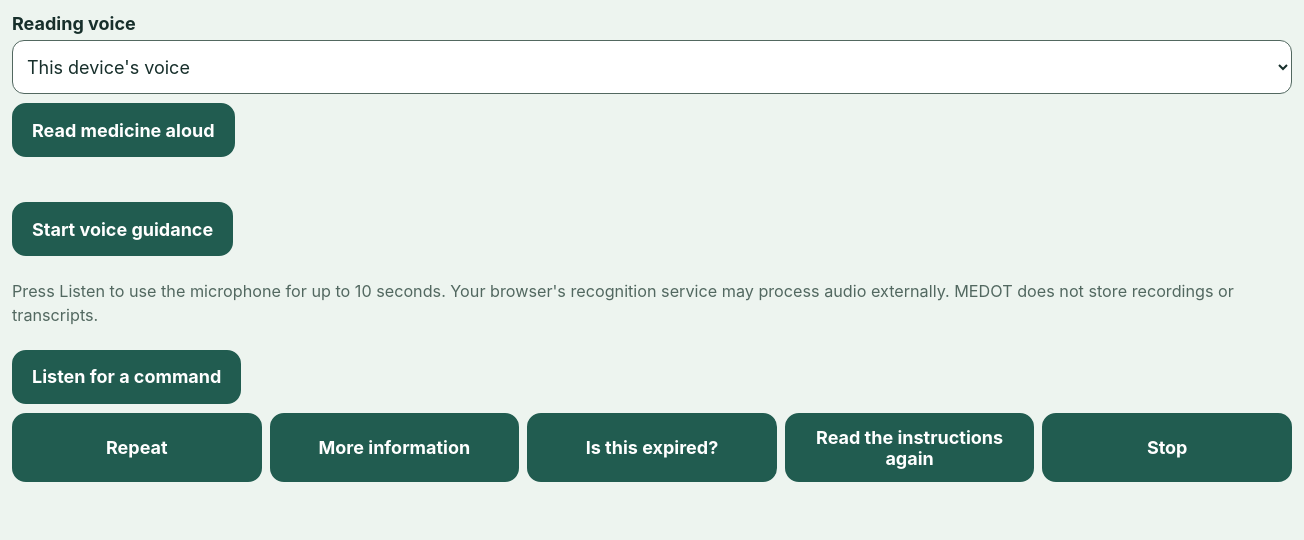
Test: never speaks stale text after unknown resolution
Click the button "Read medicine aloud". click: (123, 130)
box: [12,103,234,157]
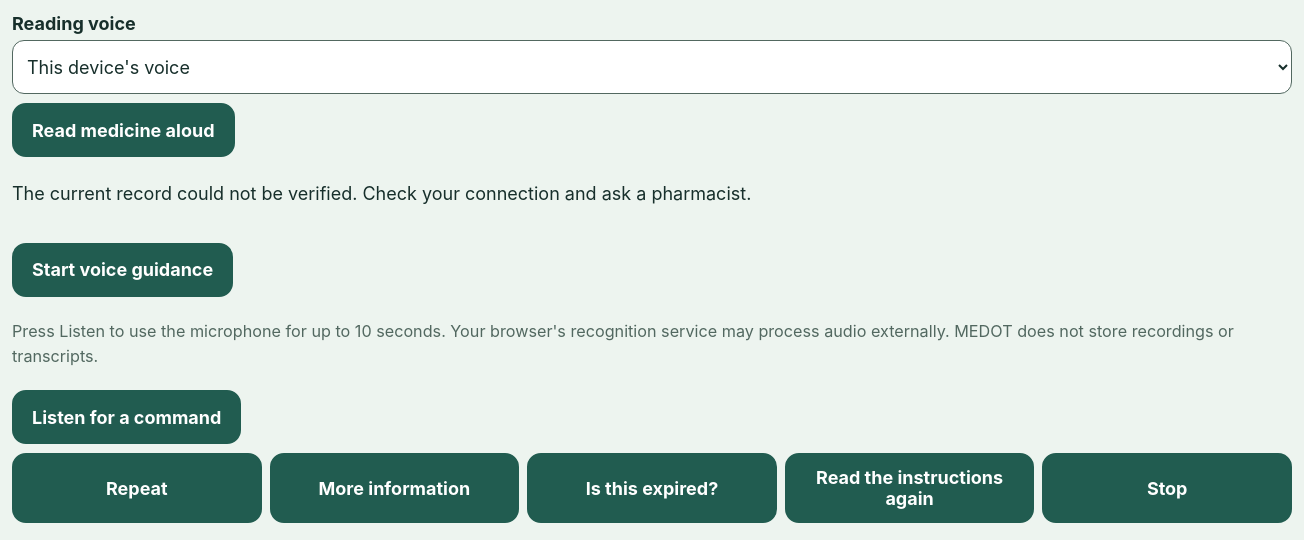
Expected: the message is shown, [12,183,751,204]
